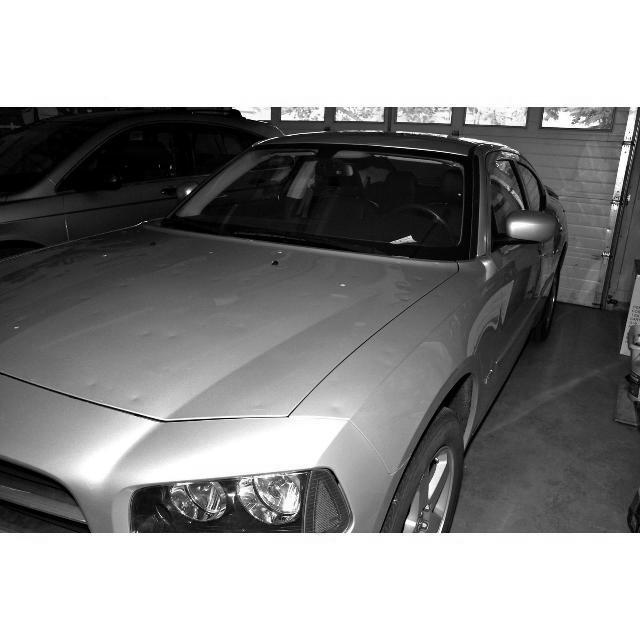bonnet-dent: (0, 228, 406, 408)
